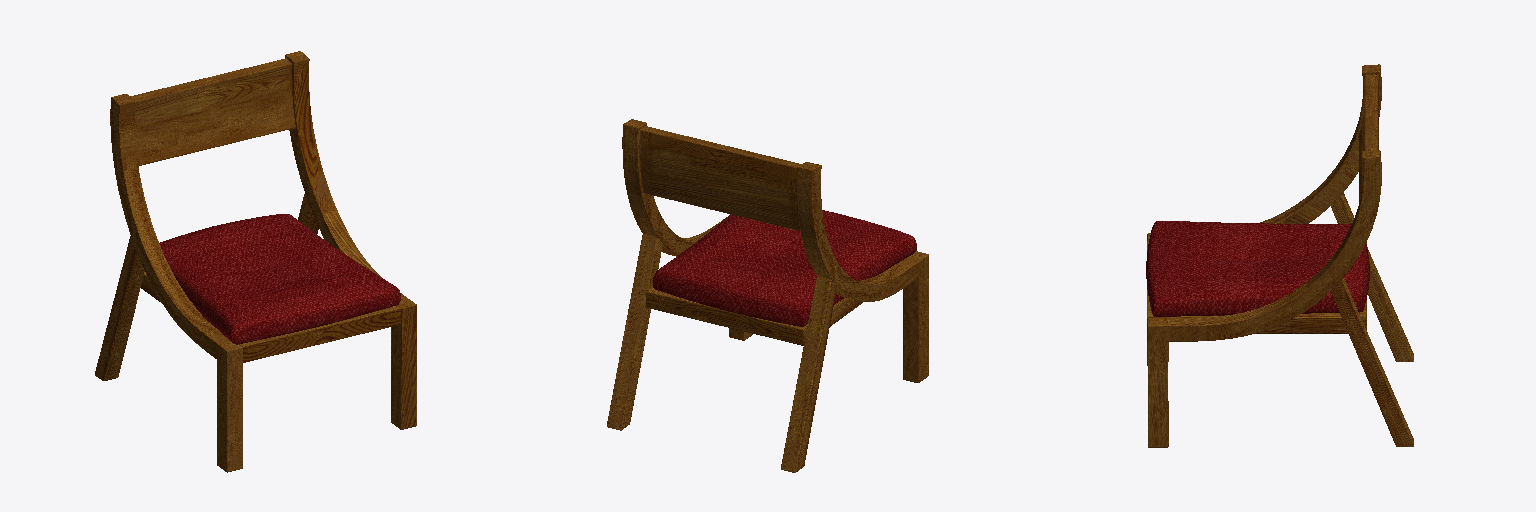
The picture shows the model from 3 angles: view 1: azimuth 30°, elevation 25°; view 2: azimuth 150°, elevation 25°; view 3: azimuth 270°, elevation 25°; orthographic projection.
Visible parts, largest first — view 1: frame, seat, legs, base; view 2: frame, seat, legs, base; view 3: seat, frame, legs, base.
Part boxes in pixels (x1,y1,x2,y2): frame: (110,51,416,472); seat: (159,214,400,344); legs: (95,194,318,380); base: (141,272,400,362); frame: (622,119,928,382); seat: (653,210,916,326); legs: (607,234,836,472); base: (646,287,862,345); seat: (1146,221,1369,316); frame: (1147,64,1381,447); legs: (1331,193,1413,446); base: (1147,240,1366,333).
Bounding box in the file's own units: 0.4994 × 0.7303 × 0.6104.
4 materials, 4 textured.